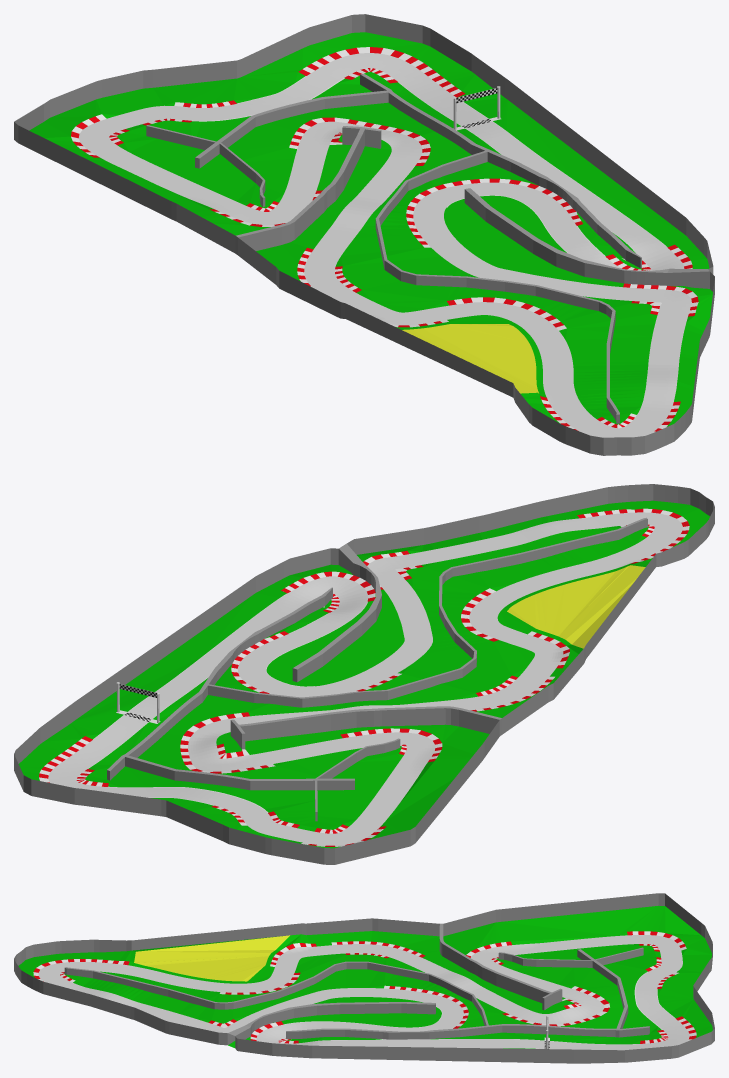
Rendered from pista_1_CIRCUIT.glb.
3 views of the same model, one above another, from view 1: azimuth 30°, elevation 25°; view 2: azimuth 150°, elevation 25°; view 3: azimuth 270°, elevation 25° (orthographic). The views are drawn at different scales.
Visible parts, largest first — view 1: terrain, pista; view 2: terrain, pista; view 3: terrain, pista.
Part boxes in pixels (<box>): terrain: <box>14,14,714,455</box>; pista: <box>71,47,698,437</box>; terrain: <box>14,484,714,864</box>; pista: <box>39,508,689,846</box>; terrain: <box>14,893,714,1063</box>; pista: <box>33,931,696,1050</box>.
Bounding box in the file's own units: 450 × 38.45 × 912.
